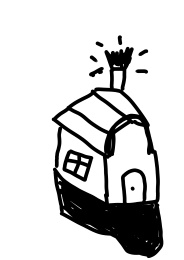closed_window: (54, 146, 104, 183)
door: (118, 162, 149, 207)
roof: (47, 82, 160, 157)
shadow: (34, 170, 176, 257)
smoking_chimney: (82, 24, 159, 89)
wall: (99, 117, 169, 212), (51, 119, 112, 203)
